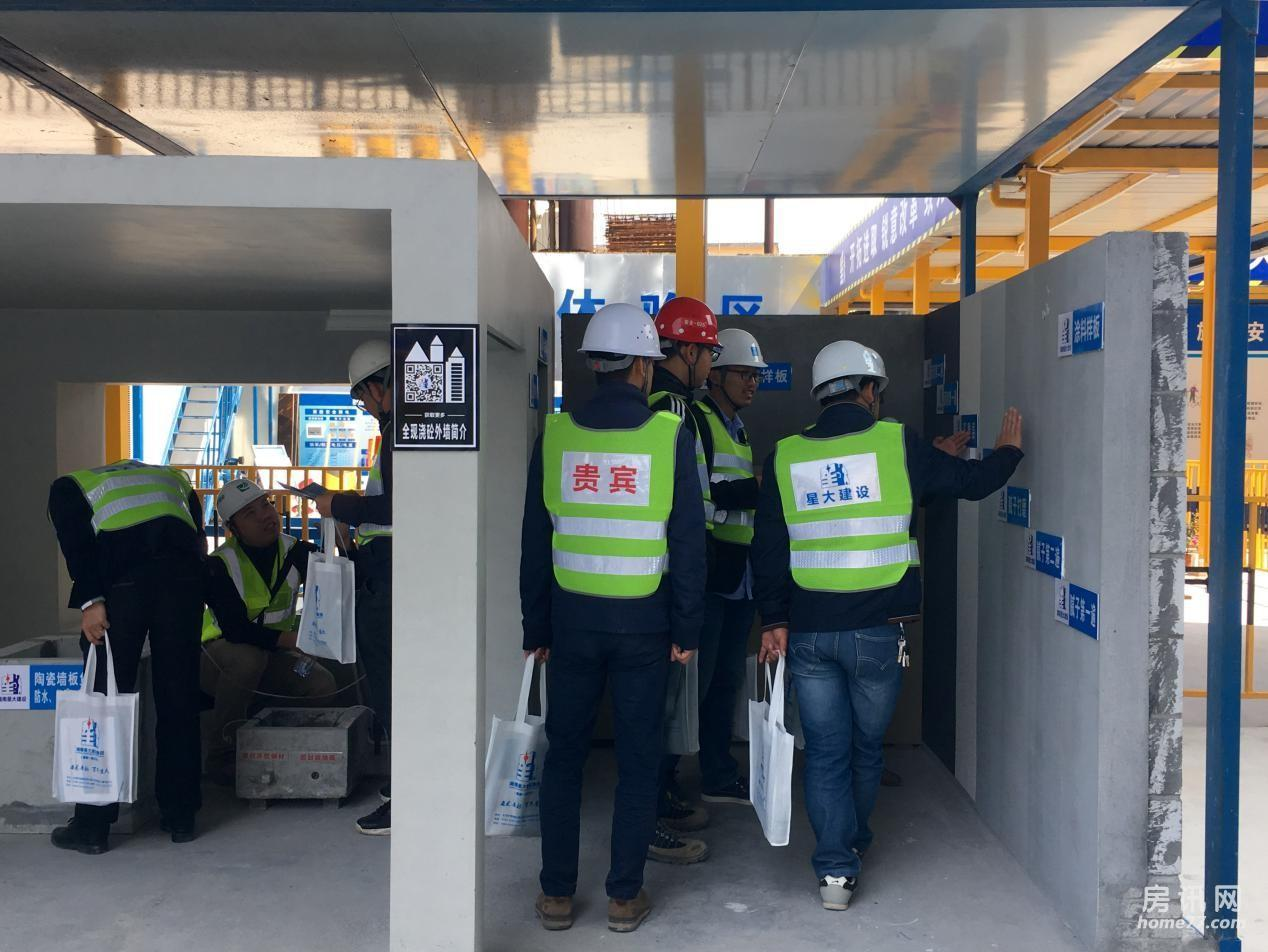helmet: (578, 301, 667, 367), (811, 341, 892, 404), (653, 297, 721, 347), (710, 325, 773, 376), (344, 340, 394, 401), (216, 477, 273, 529)
